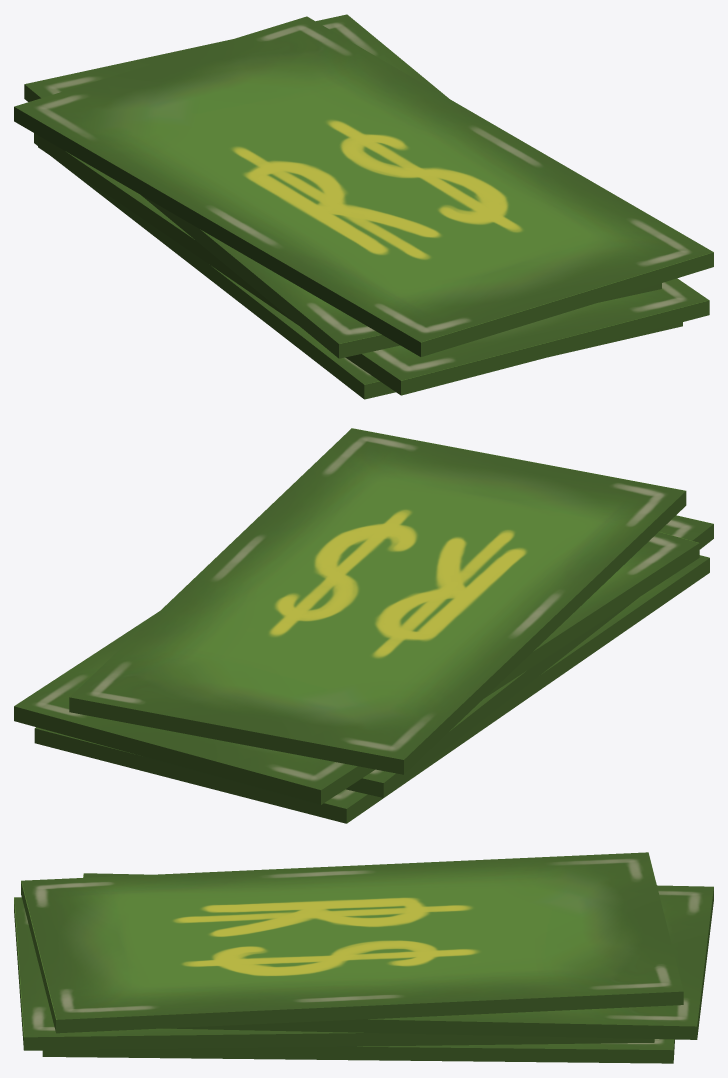
File: dinheiro.fbx
The picture shows the model from 3 angles, top to bottom: view 1: azimuth 30°, elevation 25°; view 2: azimuth 150°, elevation 25°; view 3: azimuth 270°, elevation 25°; orthographic projection. The views are drawn at different scales.
Visible parts, largest first — view 1: Cube; view 2: Cube; view 3: Cube.
Part boxes in pixels (box(x1,y1,x2,y2)): Cube: box(14, 14, 713, 399); Cube: box(14, 428, 713, 823); Cube: box(14, 852, 713, 1063).
Bounding box in the file's own units: 126 × 18.93 × 222.
